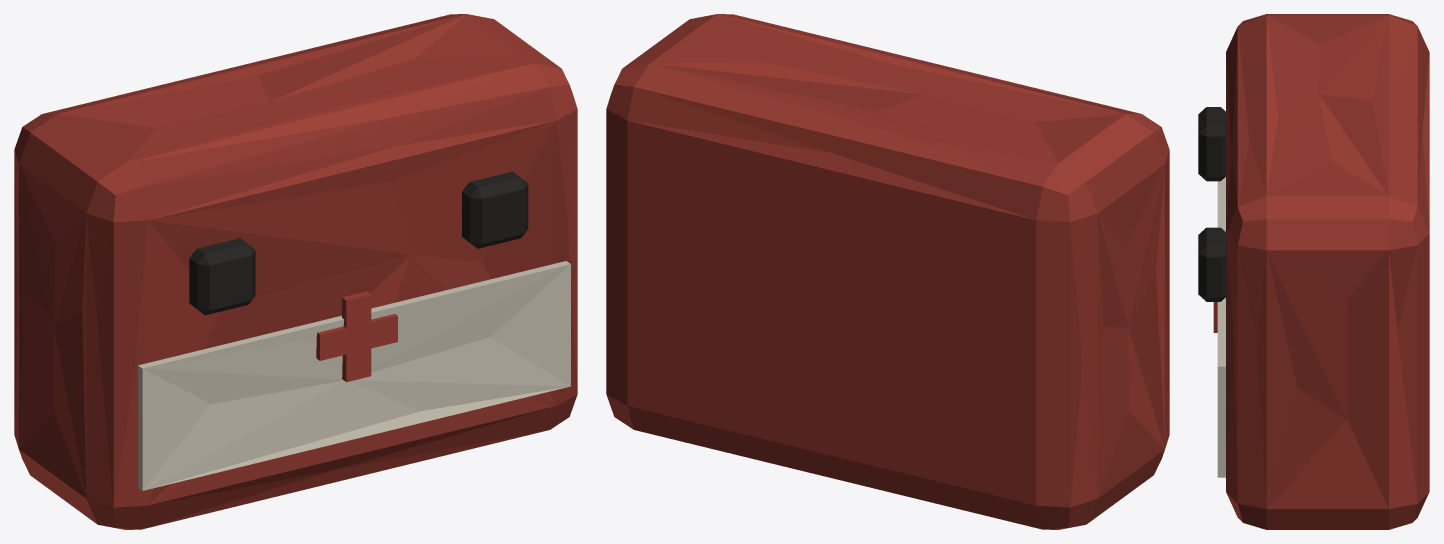
File: first_aid_kit_avtomobilnaya_idle.glb
The picture shows the model from 3 angles, left to right: view 1: azimuth 30°, elevation 25°; view 2: azimuth 150°, elevation 25°; view 3: azimuth 270°, elevation 25°; orthographic projection. The views are drawn at different scales.
Parts seen in each view (by area): view 1: first_aid_kit_avtomobilnaya_idle; view 2: first_aid_kit_avtomobilnaya_idle; view 3: first_aid_kit_avtomobilnaya_idle.
Boxes of the visible parts, x1,y1,x2,y2 form: first_aid_kit_avtomobilnaya_idle: (14, 14, 577, 529); first_aid_kit_avtomobilnaya_idle: (606, 14, 1169, 529); first_aid_kit_avtomobilnaya_idle: (1198, 14, 1429, 529).
Bounding box in the file's own units: 0.25 × 0.18 × 0.1135.
Materials: 1 (1 with a texture image).
